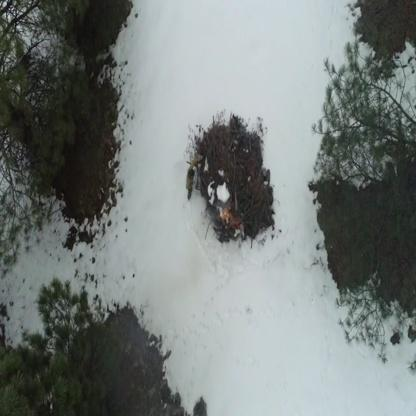Fire: (222, 210, 240, 226)
